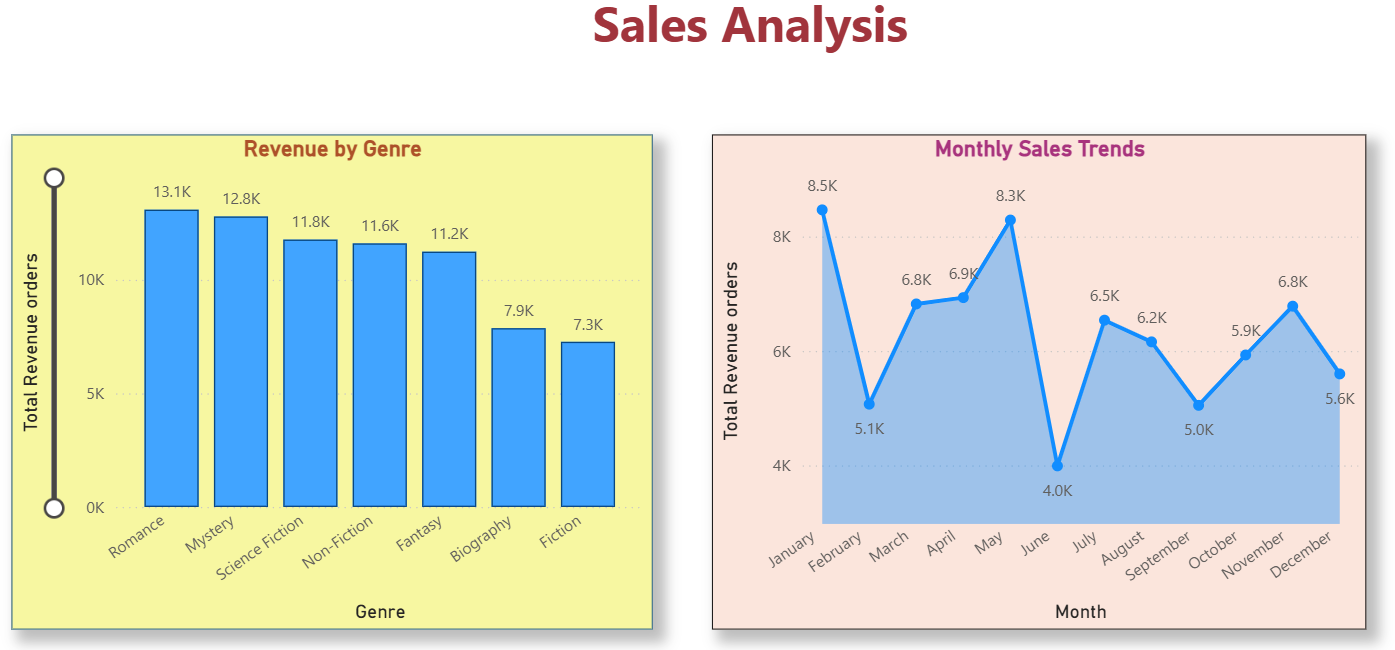

What the dashboard file says about the page in this screenshot:
{"tool":"powerbi","page":{"name":"Sales Analysis","canvas":[1280,720],"ordinal":1},"visuals":[{"type":"lineChart","title":"Monthly Sales Trends","fields":{"Category":["onlinebookstore orders.Order_Date.Variation.Date Hierarchy.Month"],"Y":["onlinebookstore books.Total Revenue orders"]},"box":[627.9,132.4,501.5,379.4],"z":0},{"type":"clusteredColumnChart","title":"Revenue by Genre","fields":{"Category":["onlinebookstore books.Genre"],"Y":["onlinebookstore books.Total Revenue orders"]},"box":[91.2,132.4,491.2,379.4],"z":1000},{"type":"textbox","box":[530.9,16.2,255.9,60.3],"z":2000}]}

Visuals, with their boxes on the page's 1280x720 design canvas (x1, y1, x2, y2). These are canvas units, not pixel positions in the 1395x650 screenshot, which may show the page scaled, cropped or inside an application window:
"Monthly Sales Trends" lineChart: [x1=628, y1=132, x2=1129, y2=512]
"Revenue by Genre" clusteredColumnChart: [x1=91, y1=132, x2=582, y2=512]
textbox: [x1=531, y1=16, x2=787, y2=76]
